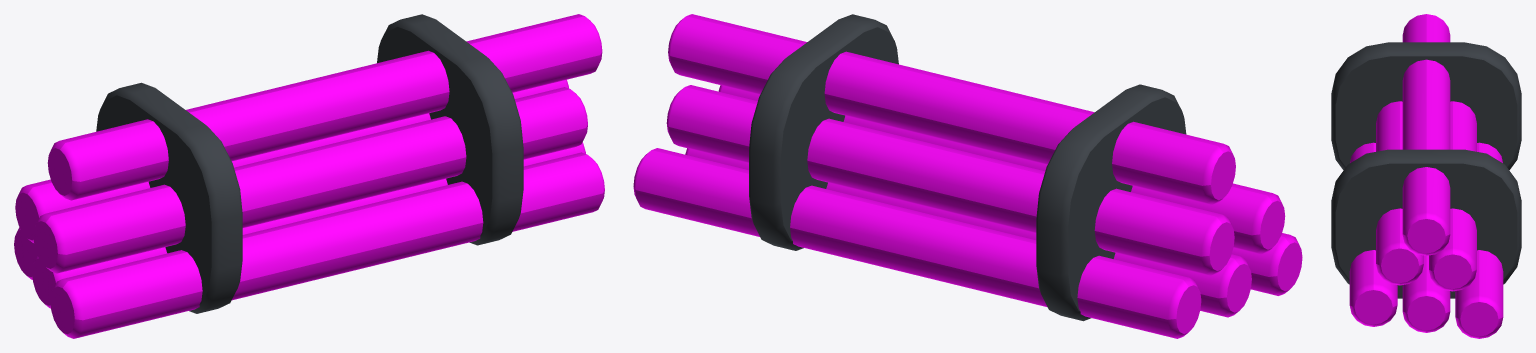
File: objet_tige.glb
3 renders of one model, left to right at view 1: azimuth 30°, elevation 25°; view 2: azimuth 150°, elevation 25°; view 3: azimuth 270°, elevation 25°, orthographic. The views are drawn at different scales.
Parts seen in each view (by area): view 1: tiges_teinte.002, tiges_teinte_sombre.002; view 2: tiges_teinte.002, tiges_teinte_sombre.002; view 3: tiges_teinte_sombre.002, tiges_teinte.002.
Boxes of the visible parts, box(x1,y1,x2,y2) form: tiges_teinte.002: box(14, 14, 604, 338); tiges_teinte_sombre.002: box(96, 14, 523, 313); tiges_teinte.002: box(633, 14, 1302, 338); tiges_teinte_sombre.002: box(749, 14, 1186, 321); tiges_teinte_sombre.002: box(1331, 42, 1521, 298); tiges_teinte.002: box(1349, 14, 1503, 338).
Size of the model in its own units: 0.36 by 0.11 by 0.135.
